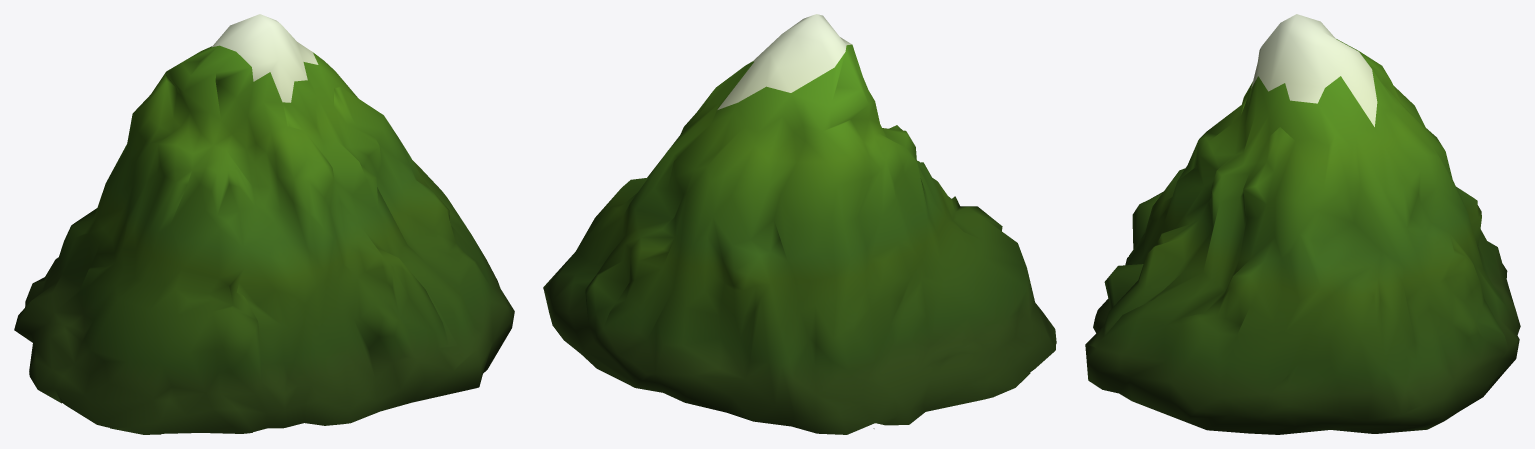
The model's file is Mountain_2.fbx.
The picture shows the model from 3 angles, left to right: view 1: azimuth 30°, elevation 25°; view 2: azimuth 150°, elevation 25°; view 3: azimuth 270°, elevation 25°; orthographic projection. The views are drawn at different scales.
Parts seen in each view (by area): view 1: Mountain_2; view 2: Mountain_2; view 3: Mountain_2.
Part boxes in pixels (left/top/right/bottom): Mountain_2: left=14, top=14, right=514, bottom=434; Mountain_2: left=543, top=14, right=1056, bottom=434; Mountain_2: left=1085, top=14, right=1520, bottom=434.
Bounding box in the file's own units: 2820 × 2020 × 2459.
